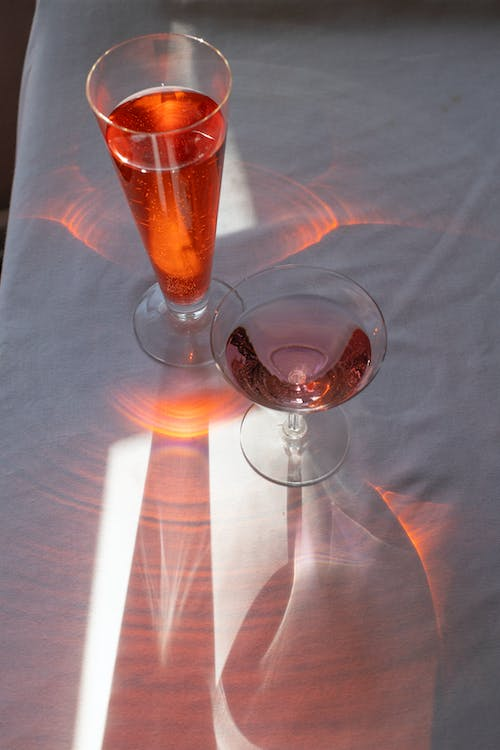alcohol: (84, 30, 245, 368), (208, 263, 390, 487)
